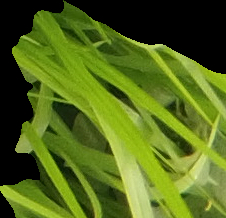grass: (1, 1, 225, 217)
